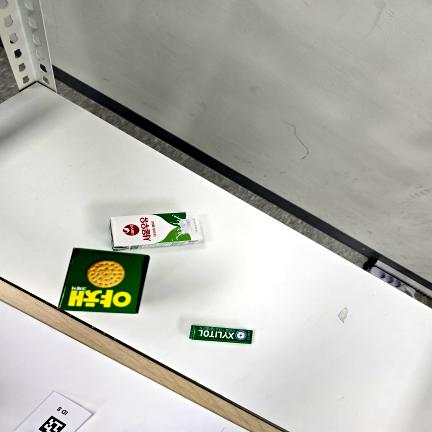cracker_vege: (59, 248, 149, 313)
milk_green: (110, 212, 202, 250)
